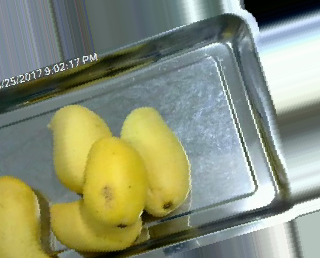Mango: (116, 105, 191, 215), (50, 104, 115, 192), (83, 136, 143, 226), (46, 199, 144, 251), (0, 177, 49, 258)
